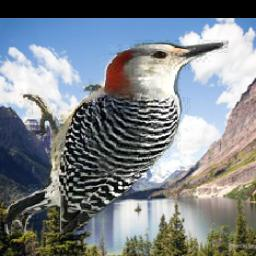Woodpecker: (5, 40, 230, 234)
